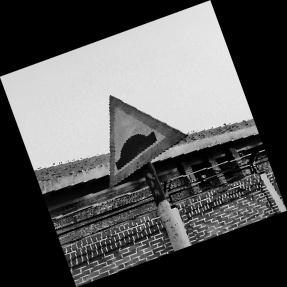Speed-breaker: (103, 90, 188, 186)
